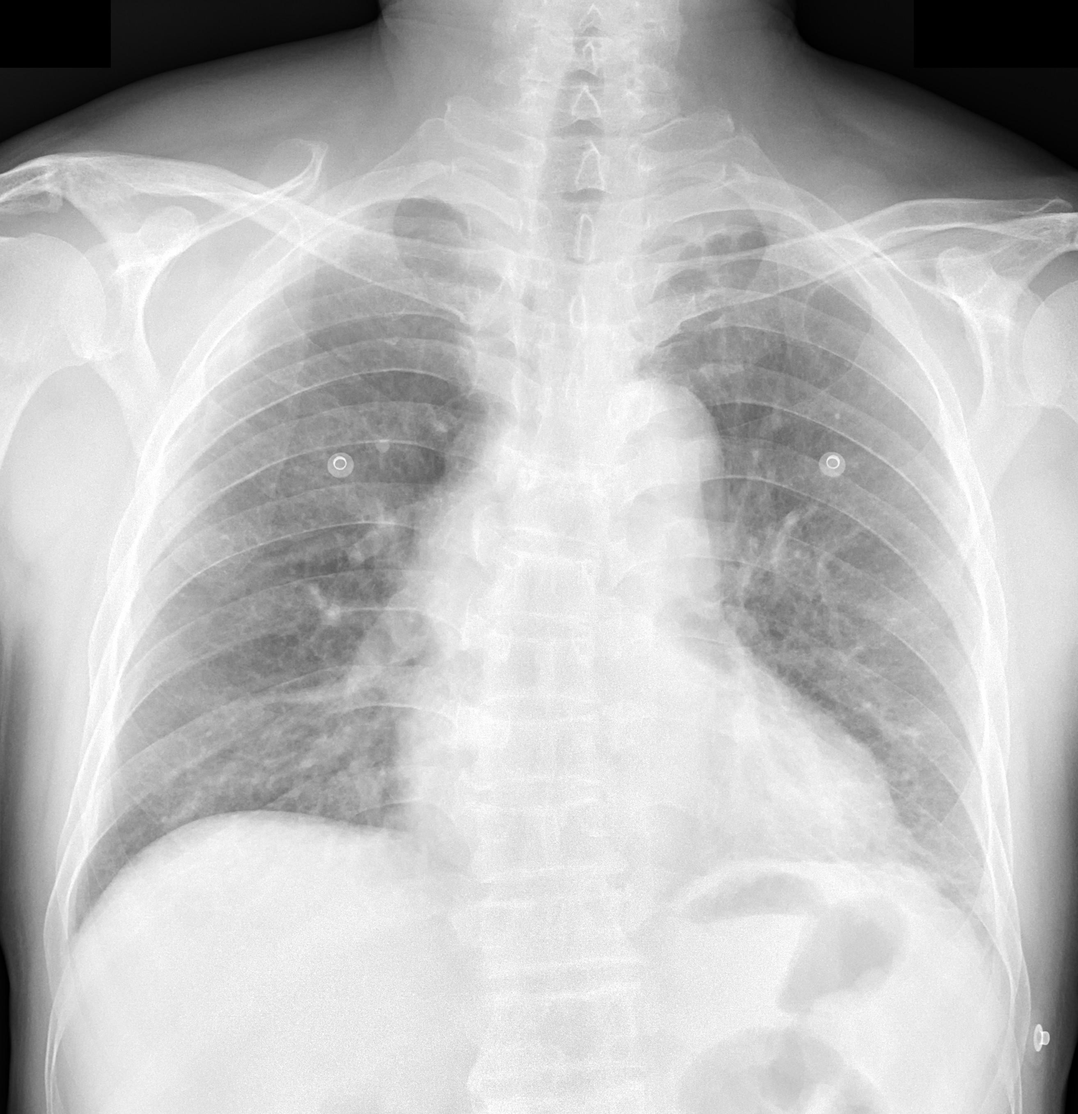Aortic enlargement: (569, 376, 728, 542)
Cardiomegaly: (385, 732, 912, 895)
Pleural thickening: (656, 200, 823, 249)
Pulmonary fibrosis: (727, 506, 872, 595)
